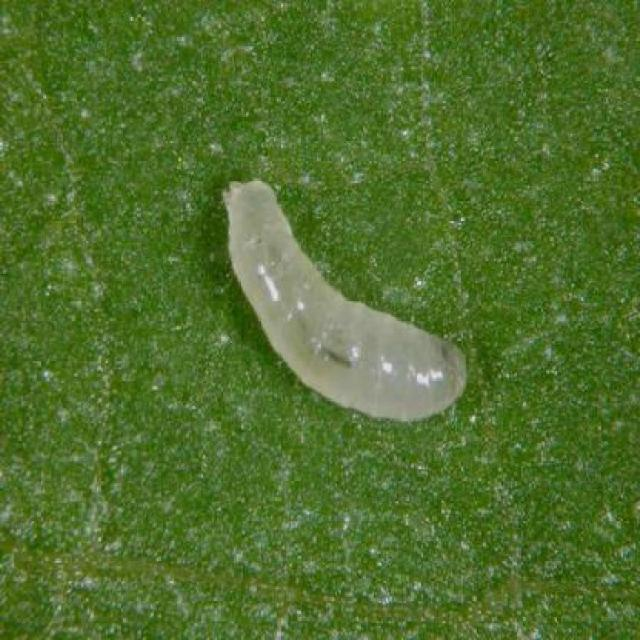whorl-maggot: (218, 164, 472, 427)
